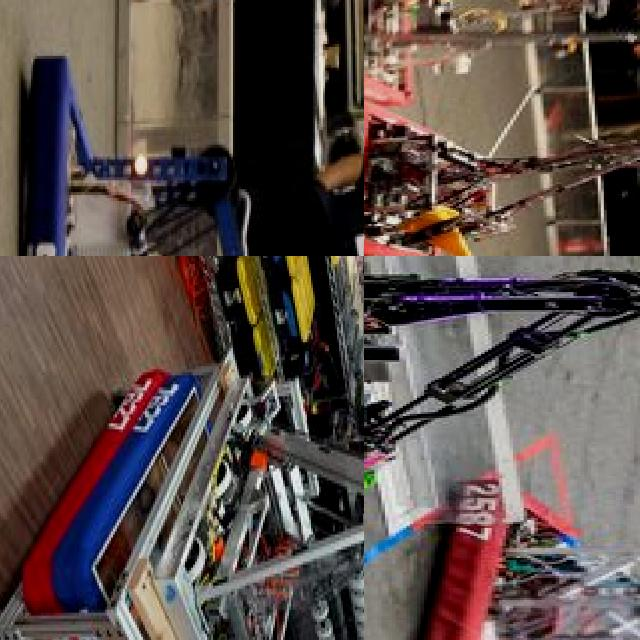FRC-Robots: (364, 256, 640, 488), (158, 354, 364, 640), (0, 55, 292, 256), (364, 100, 640, 256), (370, 494, 640, 640), (364, 0, 640, 92)
